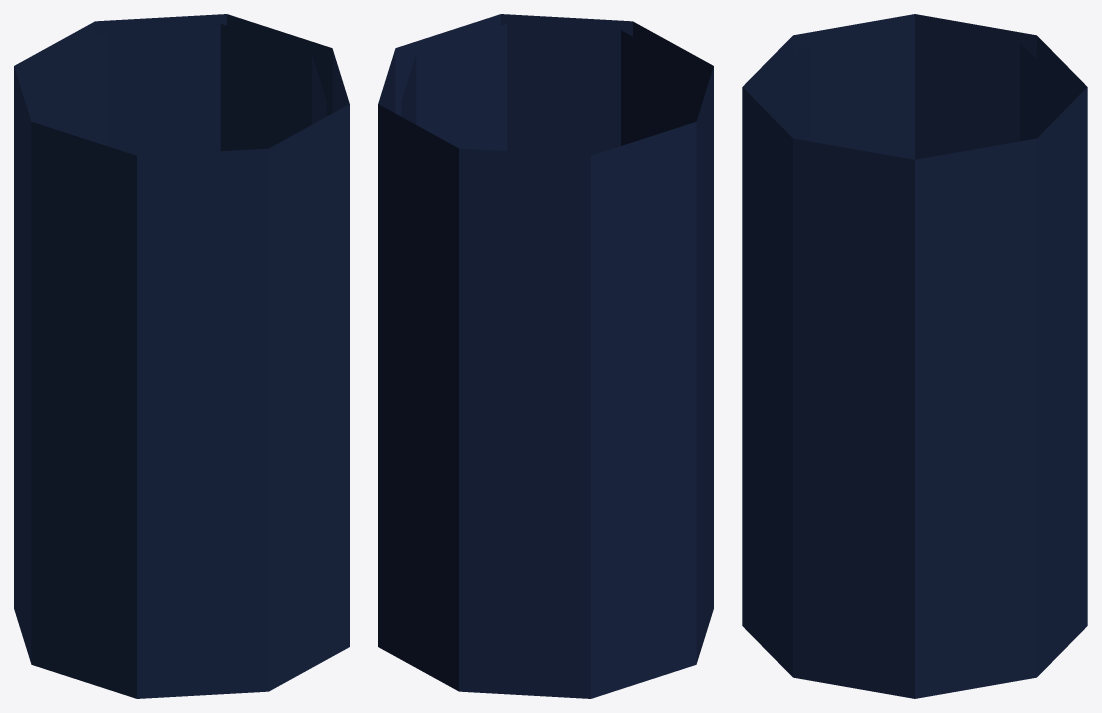
File: auditory_tunnel_segment.obj
3 views of the same model, side by side, from view 1: azimuth 30°, elevation 25°; view 2: azimuth 150°, elevation 25°; view 3: azimuth 270°, elevation 25° (orthographic).
Parts seen in each view (by area): view 1: auditory_tunnel_segment; view 2: auditory_tunnel_segment; view 3: auditory_tunnel_segment.
Boxes of the visible parts, x1,y1,x2,y2 form: auditory_tunnel_segment: (14,14,349,698); auditory_tunnel_segment: (378,14,713,698); auditory_tunnel_segment: (742,14,1087,698).
Bounding box in the file's own units: 2.32 × 4 × 2.32.
